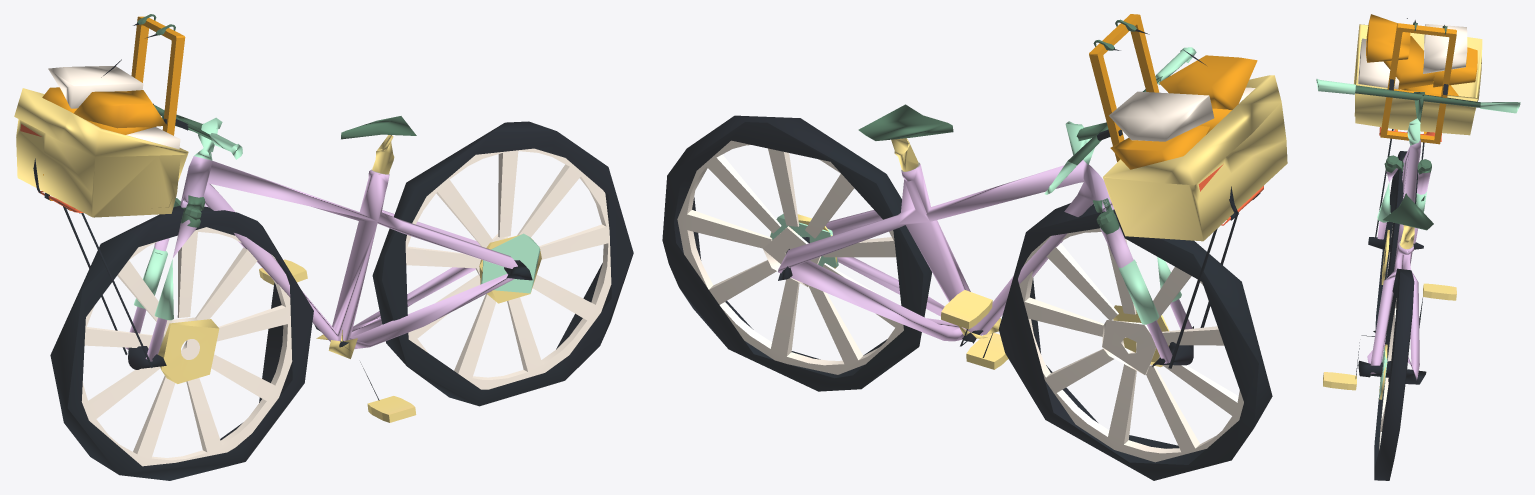
The model's file is Bicycle.glb.
3 renders of one model, left to right at view 1: azimuth 30°, elevation 25°; view 2: azimuth 150°, elevation 25°; view 3: azimuth 270°, elevation 25°, orthographic. The views are drawn at different scales.
Parts seen in each view (by area): view 1: Obj3d66-9316209-2-634; view 2: Obj3d66-9316209-2-634; view 3: Obj3d66-9316209-2-634.
Part boxes in pixels (x1,y1,x2,y2): Obj3d66-9316209-2-634: (14, 14, 633, 480); Obj3d66-9316209-2-634: (662, 14, 1287, 480); Obj3d66-9316209-2-634: (1316, 14, 1520, 480).
Bounding box in the file's own units: 0.8209 × 0.6095 × 0.3388.
Materials: 1 (1 with a texture image).
